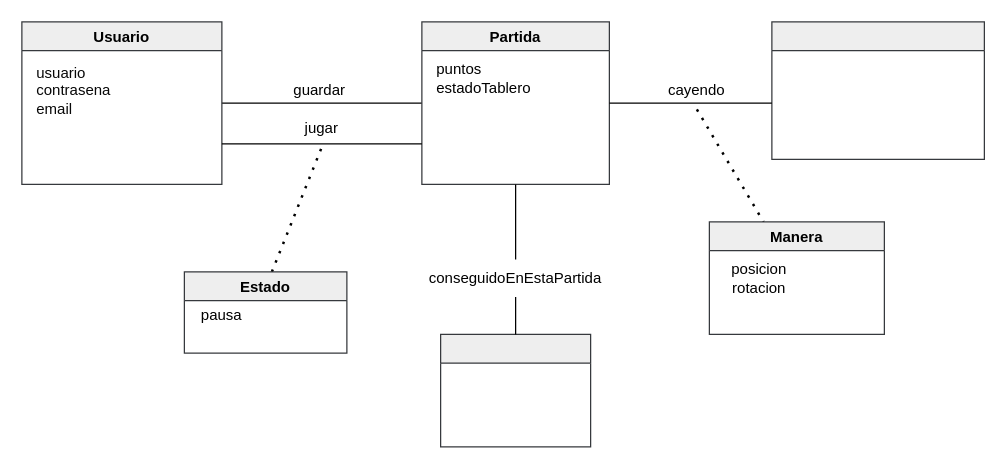
Some shapes in this 1006 by 469 pixel diagram are drawn without their labels. The centre of each missing label's shape, as x and y in pixels:
"Ficha" belongs at point 877,90.
"Premio" belongs at point 515,390.
